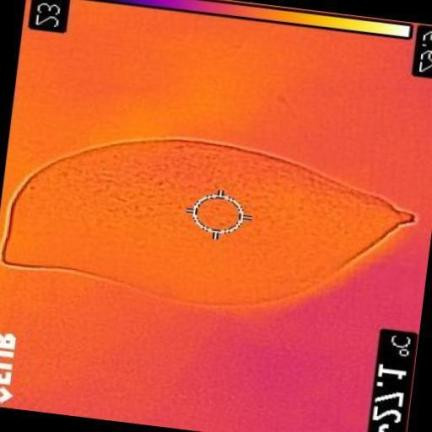mango: (5, 141, 413, 306)
